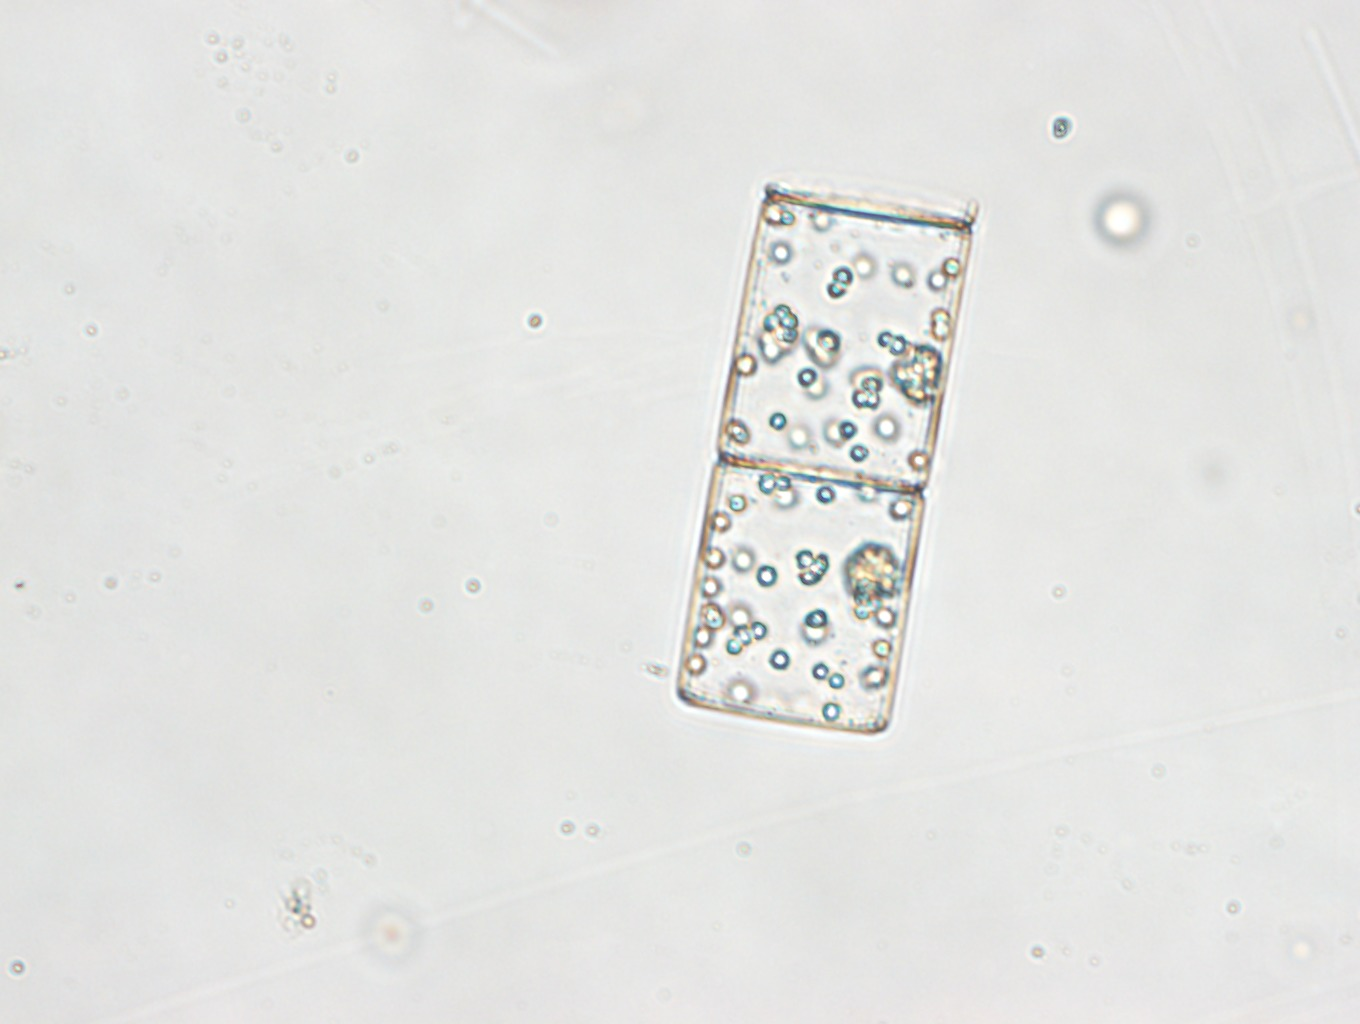guinardia flaccida: (674, 171, 988, 735)
